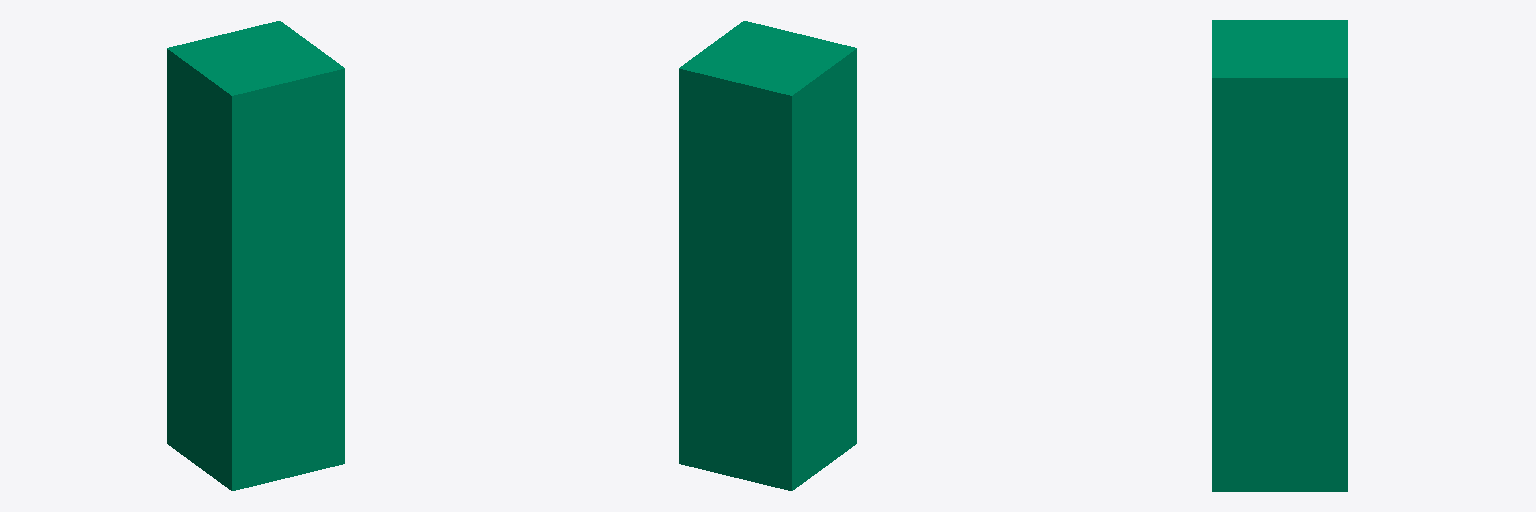
robot.urdf — avular_origin_v10:
<?xml version='1.0'?>

<robot name="avular_origin_v10">

  <gazebo>
    <static>false</static>
    <plugin filename="gz-sim-sensors-system" name="gz::sim::systems::Sensors">
      <render_engine>ogre2</render_engine>
    </plugin>
    <plugin filename="ignition-gazebo-navsat-system" name="ignition::gazebo::systems::NavSat">
    </plugin>
  </gazebo>

  <link name='base_link' />

  <link name='main_body'>
    <inertial>
      <mass value="21.0"/>
      <inertia ixx="0.4" ixy="0.0" ixz="0.0" iyy="0.77" iyz="0.0" izz="1.01"/>
    </inertial>
    <collision name='collision'>
      <origin xyz="0 0 0.07" rpy="0 0 0.0"/>
      <geometry>
        <box size=".65 .4 .125"/>
      </geometry>
    </collision>
    <visual name='visual'>
      <origin xyz="0 0 0" rpy="0 0 0.0"/>
      <geometry>
        <mesh filename="[local-path]/Desktop/Thesis/Options_in_Simulation/assets/meshes/body.obj"
          scale="0.001 0.001 0.001" />
      </geometry>
    </visual>
  </link>

  <link name="left_front_wheel">
    <inertial>
      <mass value="1"/>
      <inertia ixx="0.01" ixy="0.0" ixz="0.0" iyy="0.01" iyz="0.0" izz="0.01"/>
    </inertial>
    <collision>
      <origin xyz="0 0 0.0" rpy="0 0 0"/>
      <geometry>
        <cylinder length=".07" radius=".1175"/>
      </geometry>
    </collision>
    <visual>
      <origin xyz="0.0 0.0 0.0" rpy="0.0 1.5707 0.0"/>
      <geometry>
        <mesh filename="[local-path]/Desktop/Thesis/Options_in_Simulation/assets/meshes/wheel.obj"
          scale="0.001 0.001 0.001" />
      </geometry>
    </visual>
  </link>
  <gazebo reference="left_front_wheel">
    <collision>
      <surface>
        <friction>
          <ode>
            <mu>1</mu>
            <mu2>1</mu2>
            <slip1>0.015</slip1>
            <slip2>0</slip2>
            <fdir1>0 0 1</fdir1>
          </ode>
          <bullet>
            <friction>1</friction>
            <friction2>1</friction2>
            <rolling_friction>0.1</rolling_friction>
          </bullet>
        </friction>
      </surface>
    </collision>
  </gazebo>

  <link name="right_front_wheel">
    <inertial>
      <mass value="1"/>
      <inertia ixx="0.01" ixy="0.0" ixz="0.0" iyy="0.01" iyz="0.0" izz="0.01"/>
    </inertial>
    <collision>
      <origin xyz="0 0 0.0" rpy="0 0 0"/>
      <geometry>
        <cylinder length=".07" radius=".1175"/>
      </geometry>
    </collision>
    <visual>
      <origin xyz="0.0 0.0 0.0" rpy="0.0 1.5707 0.0"/>
      <geometry>
        <mesh filename="[local-path]/Desktop/Thesis/Options_in_Simulation/assets/meshes/wheel.obj"
          scale="0.001 0.001 0.001" />
      </geometry>
    </visual>
  </link>
  <gazebo reference="right_front_wheel">
    <collision>
      <surface>
        <friction>
          <ode>
            <mu>1</mu>
            <mu2>1</mu2>
            <slip1>0.015</slip1>
            <slip2>0</slip2>
            <fdir1>0 0 1</fdir1>
          </ode>
          <bullet>
            <friction>1</friction>
            <friction2>1</friction2>
            <rolling_friction>0.1</rolling_friction>
          </bullet>
        </friction>
      </surface>
    </collision>
  </gazebo>

  <link name="left_rear_wheel">
    <inertial>
      <mass value="1"/>
      <inertia ixx="0.01" ixy="0.0" ixz="0.0" iyy="0.01" iyz="0.0" izz="0.01"/>
    </inertial>
    <collision>
      <origin xyz="0 0 0.0" rpy="0 0 0"/>
      <geometry>
        <cylinder length=".07" radius=".1175"/>
      </geometry>
    </collision>
    <visual>
      <origin xyz="0.0 0.0 0.0" rpy="0.0 1.5707 0.0"/>
      <geometry>
        <mesh filename="[local-path]/Desktop/Thesis/Options_in_Simulation/assets/meshes/wheel.obj"
          scale="0.001 0.001 0.001" />
      </geometry>
    </visual>
  </link>
  <gazebo reference="left_rear_wheel">
    <collision>
      <surface>
        <friction>
          <ode>
            <mu>1</mu>
            <mu2>1</mu2>
            <slip1>0.015</slip1>
            <slip2>0</slip2>
            <fdir1>0 0 1</fdir1>
          </ode>
          <bullet>
            <friction>1</friction>
            <friction2>1</friction2>
            <rolling_friction>0.1</rolling_friction>
          </bullet>
        </friction>
      </surface>
    </collision>
  </gazebo>

  <link name="right_rear_wheel">
    <inertial>
      <mass value="1"/>
      <inertia ixx="0.01" ixy="0.0" ixz="0.0" iyy="0.01" iyz="0.0" izz="0.01"/>
    </inertial>
    <collision>
      <origin xyz="0 0 0.0" rpy="0 0 0"/>
      <geometry>
        <cylinder length=".07" radius=".1175"/>
      </geometry>
    </collision>
    <visual>
      <origin xyz="0.0 0.0 0.0" rpy="0.0 1.5707 0.0"/>
      <geometry>
        <mesh filename="[local-path]/Desktop/Thesis/Options_in_Simulation/assets/meshes/wheel.obj"
          scale="0.001 0.001 0.001" />
      </geometry>
    </visual>
  </link>
  <gazebo reference="right_rear_wheel">
    <collision>
      <surface>
        <friction>
          <ode>
            <mu>1</mu>
            <mu2>1</mu2>
            <slip1>0.015</slip1>
            <slip2>0</slip2>
            <fdir1>0 0 1</fdir1>
          </ode>
          <bullet>
            <friction>1</friction>
            <friction2>1</friction2>
            <rolling_friction>0.1</rolling_friction>
          </bullet>
        </friction>
      </surface>
    </collision>
  </gazebo>


  <link name="ouster_base">
    <inertial>
      <mass value="1"/>
      <inertia ixx="0.001" ixy="0.0" ixz="0.0" iyy="0.001" iyz="0.0" izz="0.001"/>
    </inertial>
    <visual name="visual">
      <geometry>
        <mesh filename="[local-path]/Desktop/Thesis/Options_in_Simulation/assets/meshes/ouster.obj"
          scale="0.001 0.001 0.001" />
      </geometry>
    </visual>
    <collision name="collision-base">
      <origin xyz="0.0 0.0 0.0" rpy="0.0 0.0 0.0"/>
      <geometry>
        <box size="0.1 0.1 0.1"/>
      </geometry>
    </collision>
  </link>

  <link name="os_sensor" />

  <link name="lidar_link_gazebo">
    <inertial>
      <mass value="0.1"/>
      <inertia ixx="0.001" ixy="0.0" ixz="0.0" iyy="0.001" iyz="0.0" izz="0.001"/>
    </inertial>
    <collision name="collision-base">
      <origin xyz="0 0 0.0" rpy="0 0 0"/>
      <geometry>
        <cylinder length="0.07" radius="0.04"/>
      </geometry>
    </collision>
  </link>

  <gazebo reference="lidar_link_gazebo">
    <sensor name='ouster_lidar' type='gpu_lidar'>
      <topic>/robot/lidar</topic>
      <gz_frame_id>os_lidar</gz_frame_id>
      <update_rate>10</update_rate>
      <lidar>
        <scan>
          <horizontal>
            <samples>1024</samples>
            <resolution>1.0</resolution>
            <min_angle>-3.1415926</min_angle>
            <max_angle>3.1415926</max_angle>
          </horizontal>
          <vertical>
            <samples>32</samples>
            <resolution>1</resolution>
            <min_angle>-0.39</min_angle>
            <max_angle>0.39</max_angle>
          </vertical>
        </scan>
        <range>
          <min>0.08</min>
          <max>100.0</max>
          <resolution>0.01</resolution>
        </range>
        <noise type="gaussian">
          <mean>0.0</mean>
          <stddev>0.01</stddev>
        </noise>
      </lidar>
      <alwaysOn>1</alwaysOn>
      <visualize>true</visualize>
    </sensor>
  </gazebo>

  <link name="camera_link">
    <inertial>
      <mass value="0.035"/>
      <inertia ixx="0.001" ixy="0" ixz="0.0" iyy="0.001" iyz="0.0" izz="0.001"/>
    </inertial>
    <collision name="collision">
      <origin xyz="0 0.047 0" rpy="0 0 0"/>
      <geometry>
        <box size="0.008 0.13 0.022"/>
      </geometry>
    </collision>
  </link>

  <gazebo reference="camera_link">
    <sensor name="realsense_d435" type="rgbd_camera">
      <gz_frame_id>camera_link</gz_frame_id>
      <topic>/robot/camera</topic>
      <update_rate>6</update_rate>
      <camera name="camera">
        <horizontal_fov>1.0472</horizontal_fov>
        <lens>
          <intrinsics>
            <!-- fx = fy = width / ( 2 * tan (hfov / 2 ) ) -->
            <fx>554.25469</fx>
            <fy>554.25469</fy>
            <!-- cx = ( width + 1 ) / 2 -->
            <cx>320.5</cx>
            <!-- cy = ( height + 1 ) / 2 -->
            <cy>240.5</cy>
            <s>0</s>
          </intrinsics>
        </lens>
        <distortion>
          <k1>0.0</k1>
          <k2>0.0</k2>
          <k3>0.0</k3>
          <p1>0.0</p1>
          <p2>0.0</p2>
          <center>0.5 0.5</center>
        </distortion>
        <image>
          <width>640</width>
          <height>480</height>
          <format>R8G8B8</format>
        </image>
        <clip>
          <near>0.02</near>
          <far>300</far>
        </clip>
        <depth_camera>
          <clip>
            <near>0.1</near>
            <far>10</far>
          </clip>
        </depth_camera>
        <noise type="gaussian">
          <mean>0</mean>
          <stddev>0.007</stddev>
        </noise>
      </camera>
    </sensor>
  </gazebo>

  <link name="gnss_link">
    <visual name="visual_pole">
      <geometry>
        <mesh filename="package://origin_v10_description/urdf/meshes/antenna.obj"
          scale="0.001 0.001 0.001" />
      </geometry>
      <origin xyz="0.0 0 0.0" rpy="0 0 0"/>
      <geometry>
        <box size="0.03 0.03 0.1"/>
      </geometry>
    </visual>
  </link>

  <gazebo reference="gnss_link">
    <sensor name="navsat" type="navsat">
      <gz_frame_id>gnss_link</gz_frame_id>
      <always_on>1</always_on>
      <update_rate>10</update_rate>
      <topic>/robot/gnss</topic>
      <!-- Obtained from http://sdformat.org/spec?ver=1.11&elem=sensor#sensor_gps -->
      <gps>
        <position_sensing>
          <horizontal>
            <!-- Noise in degrees: https://github.com/gazebosim/gz-sensors/issues/325 -->
            <noise type="gaussian">
              <mean>0.0</mean>
              <stddev>0.0001</stddev>
            </noise>
          </horizontal>
          <vertical>
            <!-- Noise in degrees -->
            <noise type="gaussian">
              <mean>0.0</mean>
              <stddev>0.0001</stddev>
            </noise>
          </vertical>
        </position_sensing>
      </gps>
    </sensor>
  </gazebo>

  <joint type="fixed" name="base_body">
    <origin xyz="0.0 0 0.064" rpy="0 0 0"/>
    <child link="main_body" />
    <parent link="base_link"/>
  </joint>

  <joint type="continuous" name="main_body_left_front_wheel">
    <origin xyz="0.205 0.25 0.056" rpy="-1.5707 0 0"/>
    <child link="left_front_wheel" />
    <parent link="main_body"/>
    <axis xyz="0 0 1"/>
    <limit effort="100000.0" velocity="10"/>
  </joint>

  <joint type="continuous" name="main_body_right_front_wheel">
    <origin xyz="0.205 -0.25 0.056" rpy="1.5707 0 0"/>
    <child link="right_front_wheel" />
    <parent link="main_body"/>
    <axis xyz="0 0 -1"/>
    <limit effort="100000.0" velocity="10"/>
  </joint>

  <joint type="continuous" name="main_body_left_rear_wheel">
    <origin xyz="-0.205 0.25 0.056" rpy="-1.5707 0 0"/>
    <child link="left_rear_wheel" />
    <parent link="main_body"/>
    <axis xyz="0 0 1"/>
    <limit effort="100000.0" velocity="10"/>
  </joint>

  <joint type="continuous" name="main_body_right_rear_wheel">
    <origin xyz="-0.205 -0.25 0.056" rpy="1.5707 0 0"/>
    <child link="right_rear_wheel" />
    <parent link="main_body"/>
    <axis xyz="0 0 -1"/>
    <limit effort="100000.0" velocity="10"/>
  </joint>

  <joint type="fixed" name="ouster_platform_joint">
    <origin xyz="0.272 0 0.189" rpy="0 0 0"/>
    <child link="ouster_base" />
    <parent link="main_body"/>
  </joint>

  <joint name="ouster_orientation_joint" type="fixed">
    <parent link="ouster_base" />
    <child link="os_sensor" />
    <origin xyz="0 0 0" rpy="0 0 0" />
  </joint>

  <joint type="fixed" name="lidar_joint_gazebo">
    <origin xyz="0 0 0.035" rpy="0 0 0"/>
    <child link="lidar_link_gazebo" />
    <parent link="ouster_base"/>
  </joint>

  <joint type="fixed" name="realsense_joint">
    <origin xyz="0.32 0.03 0.1" rpy="0 0 0"/>
    <child link="camera_link"/>
    <parent link="main_body"/>
  </joint>

  <joint type="fixed" name="gnss_joint">
    <origin xyz="-0.0505 0 0.212" rpy="0 0 0"/>
    <child link="gnss_link"/>
    <parent link="main_body"/>
  </joint>

  <!-- Controls the differential drive robot -->
  <gazebo>
    <plugin filename="gz-sim-joint-state-publisher-system" name="ignition::gazebo::systems::JointStatePublisher">
      <topic>/robot/joint_states</topic>
    </plugin>
    <plugin filename="gz-sim-diff-drive-system" name="gz::sim::systems::DiffDrive">
      <left_joint>main_body_left_front_wheel</left_joint>
      <left_joint>main_body_left_rear_wheel</left_joint>
      <right_joint>main_body_right_front_wheel</right_joint>
      <right_joint>main_body_right_rear_wheel</right_joint>
      <wheel_separation>0.41</wheel_separation>
      <wheel_radius>0.105</wheel_radius>
      <max_linear_acceleration>5</max_linear_acceleration>
      <min_linear_acceleration>-5</min_linear_acceleration>
      <max_angular_acceleration>5</max_angular_acceleration>
      <min_angular_acceleration>-5</min_angular_acceleration>
      <max_linear_velocity>1.5</max_linear_velocity>
      <min_linear_velocity>-1.5</min_linear_velocity>
      <max_angular_velocity>2</max_angular_velocity>
      <min_angular_velocity>-2</min_angular_velocity>

      <topic>/robot/cmd_vel</topic>
      <odom_topic>/robot/odom</odom_topic>
      <tf_topic>/robot/tf</tf_topic>
      <frame_id>odom</frame_id>
      <child_frame_id>base_link</child_frame_id>
    </plugin>
  </gazebo>

</robot>

--- What the picture shows (computed from the rendered views, not written in the file) ---
3 views of the same robot in one strip: view 1: azimuth 30°, elevation 25°; view 2: azimuth 150°, elevation 25°; view 3: azimuth 270°, elevation 25° (orthographic).
Model avular_origin_v10 with 11 links and 10 joints (4 continuous, 6 fixed), rooted at base_link, posed all joints at 0.
Links seen in each view (by area): view 1: gnss_link; view 2: gnss_link; view 3: gnss_link.
Boxes of the visible links, left/top/right/bottom form: gnss_link: left=167, top=21, right=344, bottom=490; gnss_link: left=679, top=21, right=856, bottom=490; gnss_link: left=1212, top=20, right=1347, bottom=491.
Bounding box of the posed robot: 0.03 × 0.03 × 0.1 m (x, y, z).
Geometry: only primitive shapes (box / cylinder / sphere) drawn; not drawn: 6 mesh visuals (reference in a form the renderer does not follow).